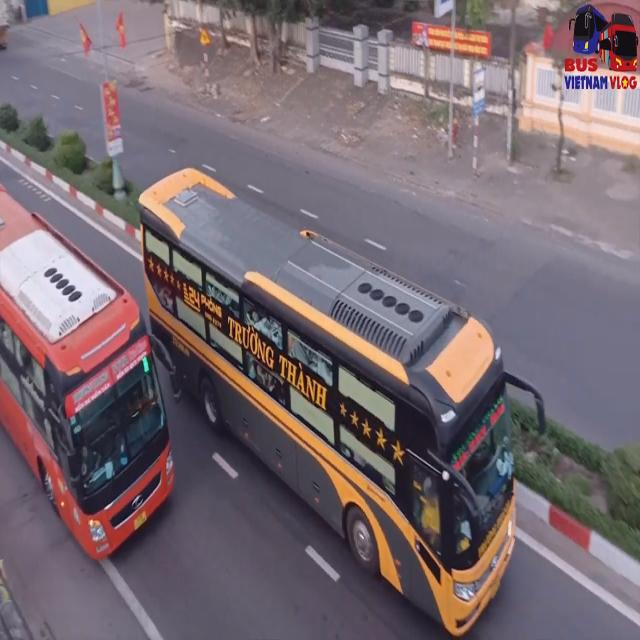bus: (144, 163, 530, 637), (0, 187, 168, 562)
